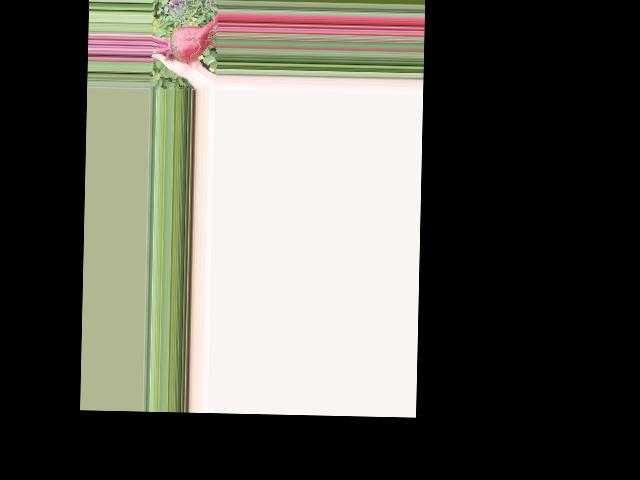beet: (150, 12, 218, 62)
